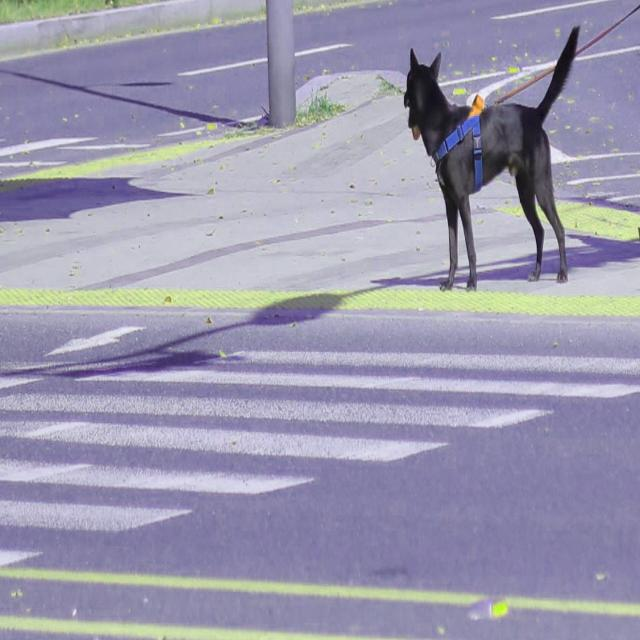Dog: (402, 23, 580, 293)
